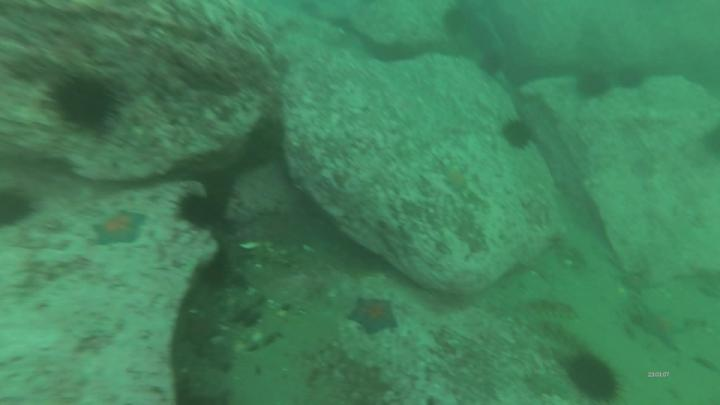echinus: (53, 81, 111, 130), (567, 355, 621, 399), (247, 116, 286, 161), (180, 195, 219, 228), (2, 191, 28, 225), (504, 120, 533, 147), (578, 77, 608, 98), (480, 51, 504, 75), (443, 10, 467, 34), (619, 69, 640, 91)
holothurian: (539, 325, 581, 351), (523, 300, 579, 319)
starfish: (346, 296, 399, 336), (96, 212, 145, 244), (645, 313, 686, 343), (445, 170, 469, 192)
